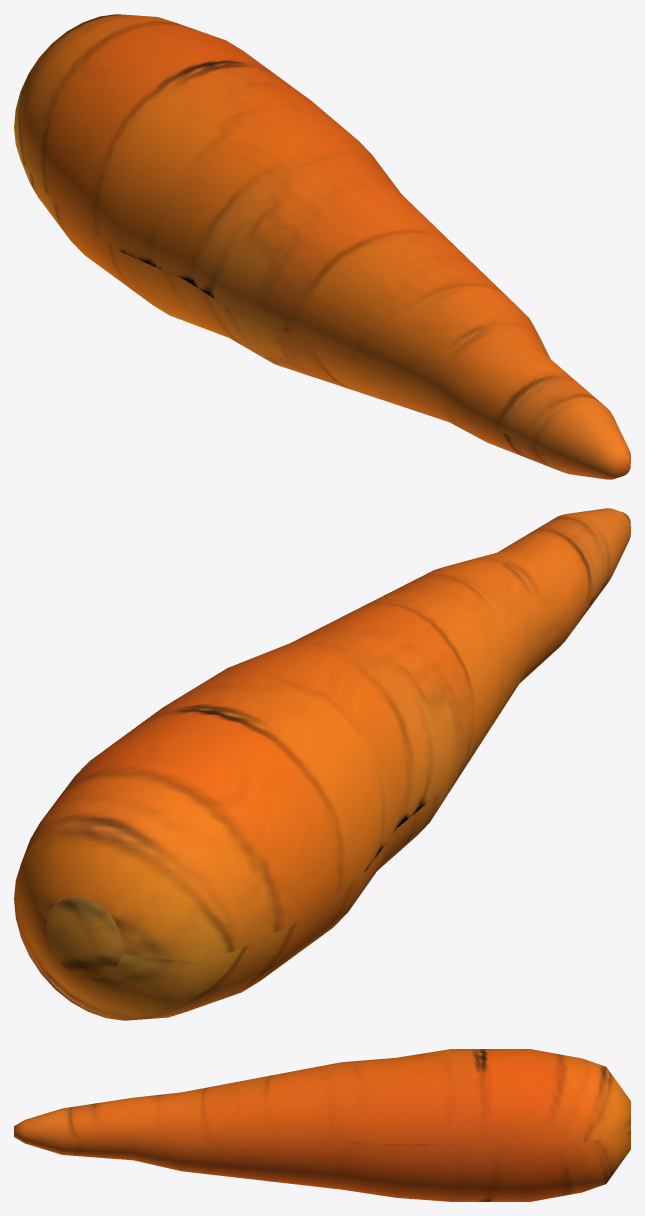
File: carrot.fbx
3 renders of one model, top to bottom at view 1: azimuth 30°, elevation 25°; view 2: azimuth 150°, elevation 25°; view 3: azimuth 270°, elevation 25°, orthographic. The views are drawn at different scales.
Parts seen in each view (by area): view 1: Cylinder; view 2: Cylinder; view 3: Cylinder.
Boxes of the visible parts, <box> form: Cylinder: <box>14,14,630,479</box>; Cylinder: <box>14,508,630,1020</box>; Cylinder: <box>14,1049,630,1201</box>.
Bounding box in the file's own units: 80 × 80 × 323.
